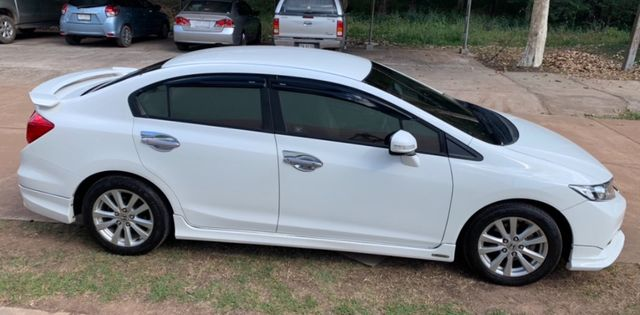sedan: (14, 43, 628, 285)
